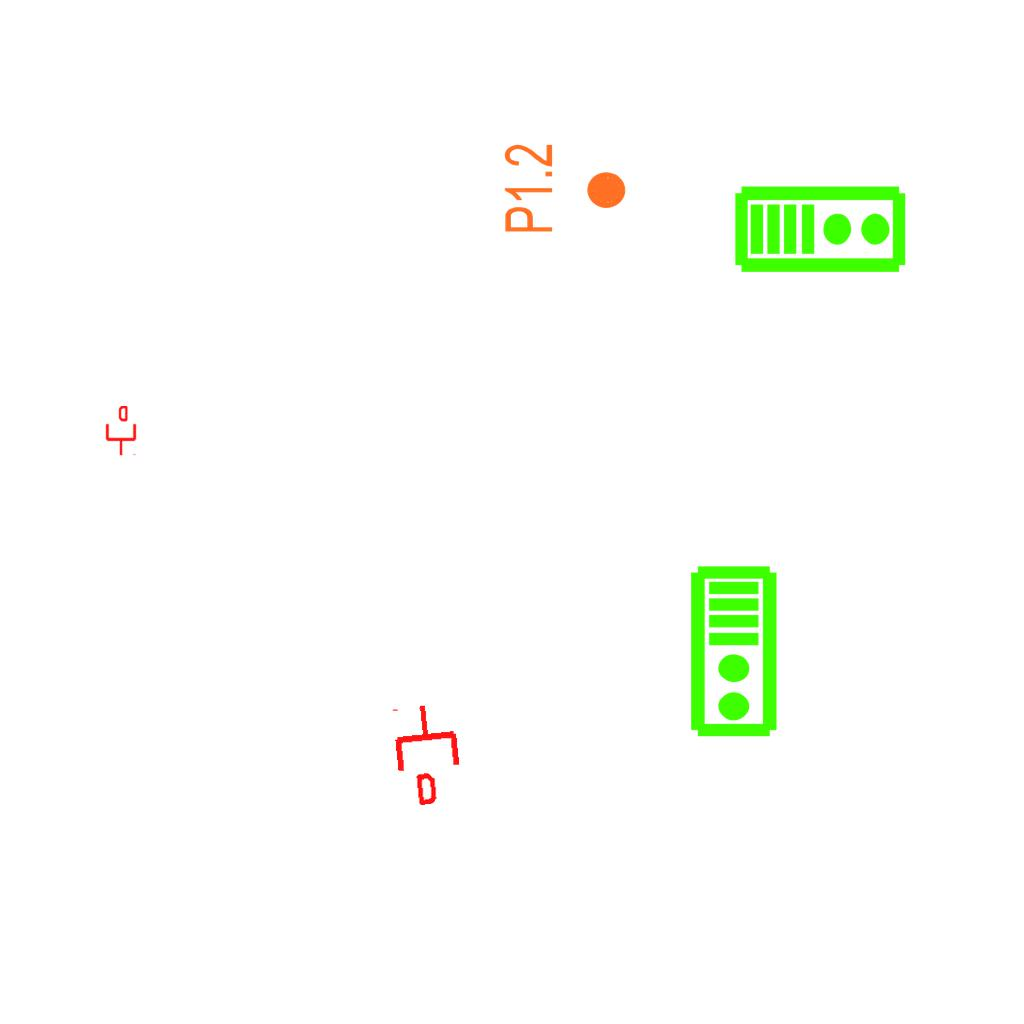Datenanschluss_einfach: (387, 700, 468, 808), (104, 406, 138, 456)
Downlight_LED_Einbauleuchten_Flur: (501, 142, 629, 235)
Gegensprechanlage_mit_Video: (733, 180, 909, 275), (688, 564, 783, 740)
